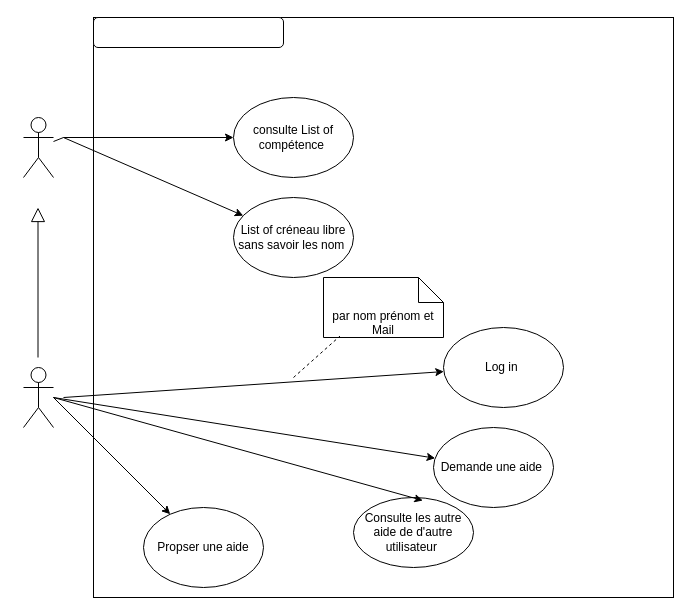
Image size: 691x615. Some labels were removed from this diagram. The shapes that lost their labels are listed below. From the top down, each one's centre as x and y in pixels, then its label:
At (188,32): "échange de compétence Allô_aide".
At (38,147): "Visiteur".
At (38,397): "User1".
